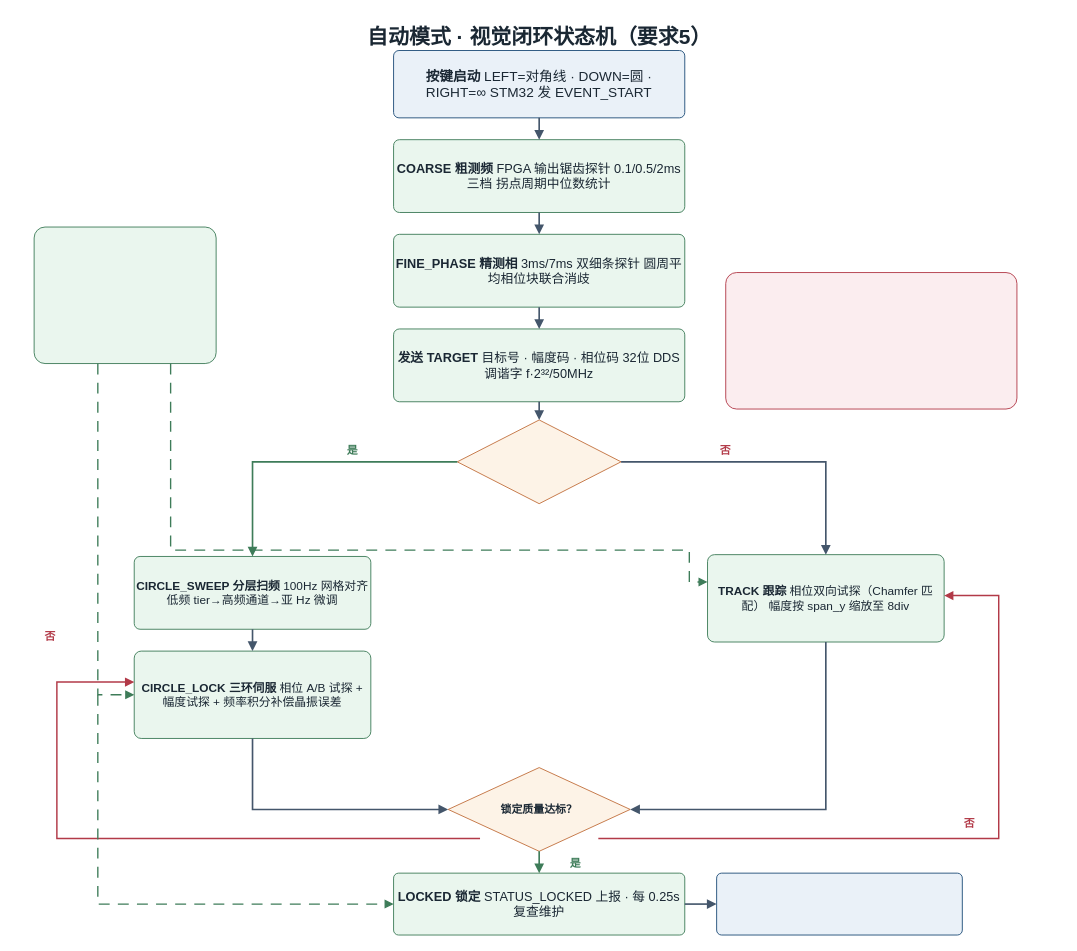
This 1077x951 diagram has some shape labels left out. The shapes that lost their labels are listed below. From the top down, each one's centre as x and y in pixels, then its label:
At point 124,295: "摄像头 30fps 图像反馈 HSV 轨迹提取 椭圆拟合 · Chamfer 匹配 实时视觉反馈".
At point 871,340: "异常处理与指标 超时/失败 → 恢复探针输出 STATUS_ERROR 上报 指标：控制时间 ≤10s 稳定时间 ≥5s".
At point 538,461: "目标 = 圆？".
At point 839,903: "声光提示 STM32 驱动 LED + 蜂鸣器（PF8）".
